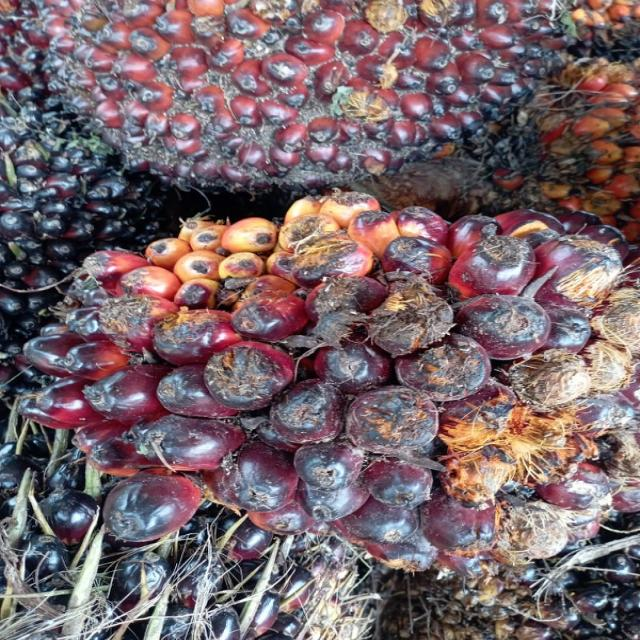fraksi 1: (56, 172, 640, 570), (50, 0, 539, 198)
